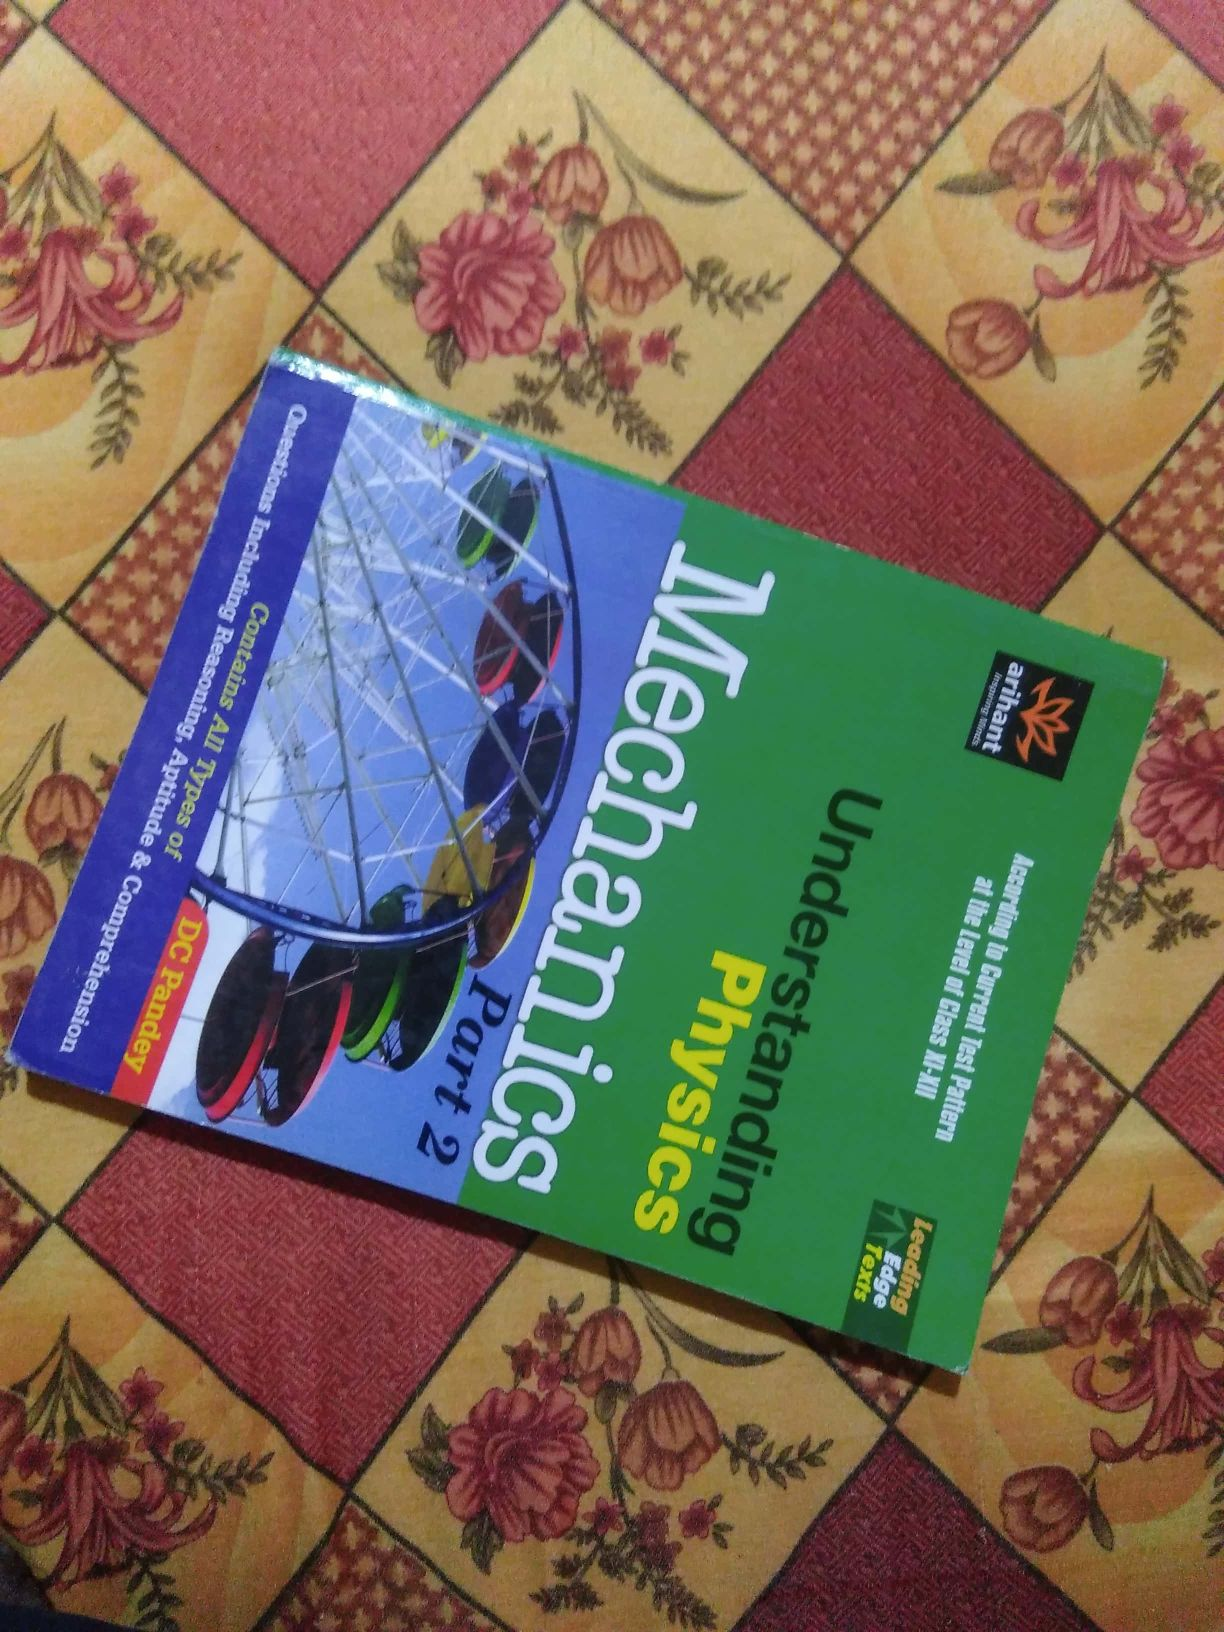mechanics: (69, 373, 1144, 1388)
